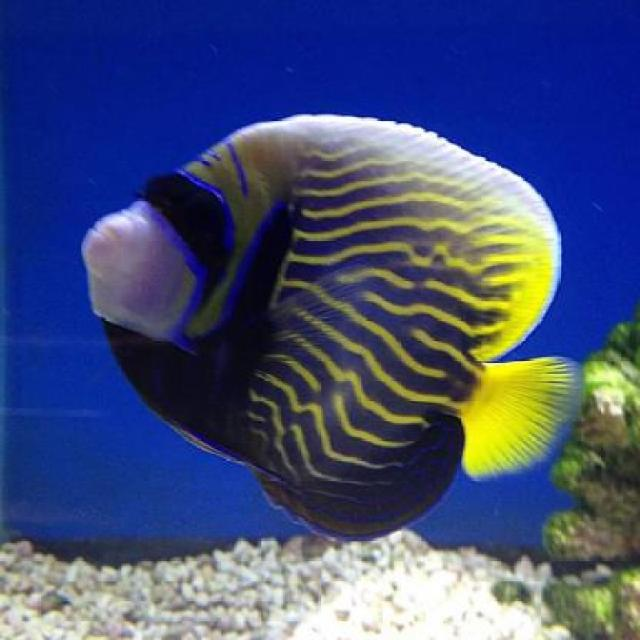AngelFish: (83, 111, 569, 537)
